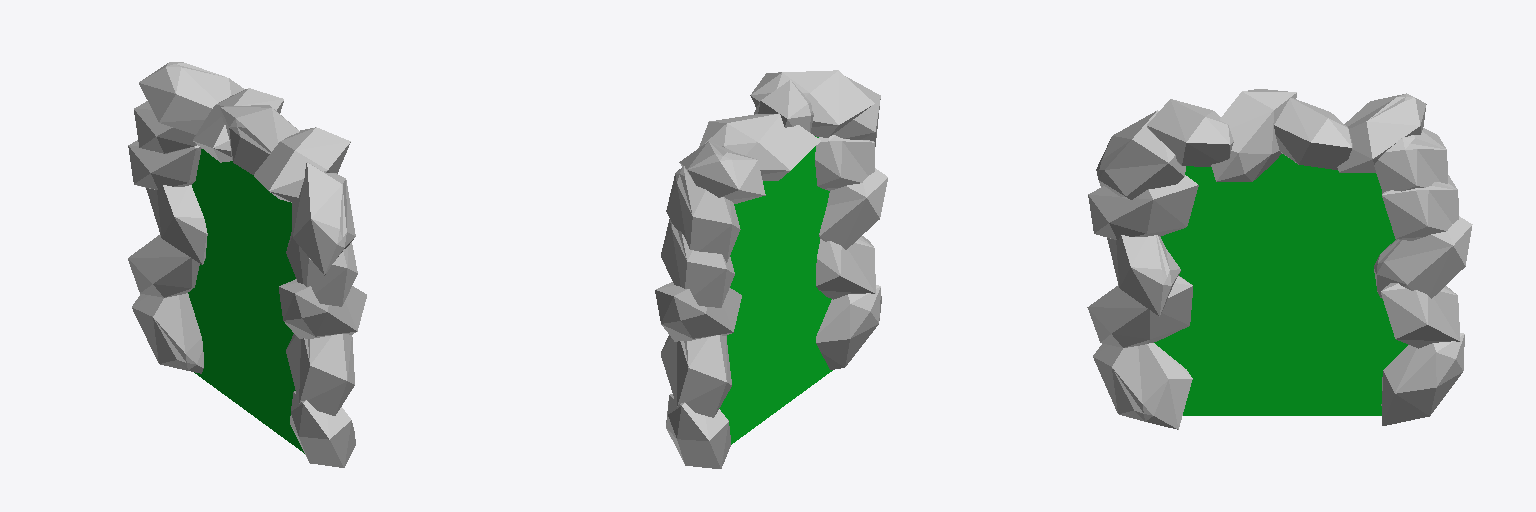
Rendered from portal.obj.
3 views of the same model, side by side, from view 1: azimuth 30°, elevation 25°; view 2: azimuth 150°, elevation 25°; view 3: azimuth 270°, elevation 25° (orthographic).
Parts seen in each view (by area): view 1: ObjPortal_Mesh; view 2: ObjPortal_Mesh; view 3: ObjPortal_Mesh.
Part boxes in pixels (x1,y1,x2,y2): ObjPortal_Mesh: (128, 62, 366, 467); ObjPortal_Mesh: (655, 70, 887, 468); ObjPortal_Mesh: (1087, 89, 1472, 429).
Size of the model in its own units: 2 by 6.46 by 6.91.